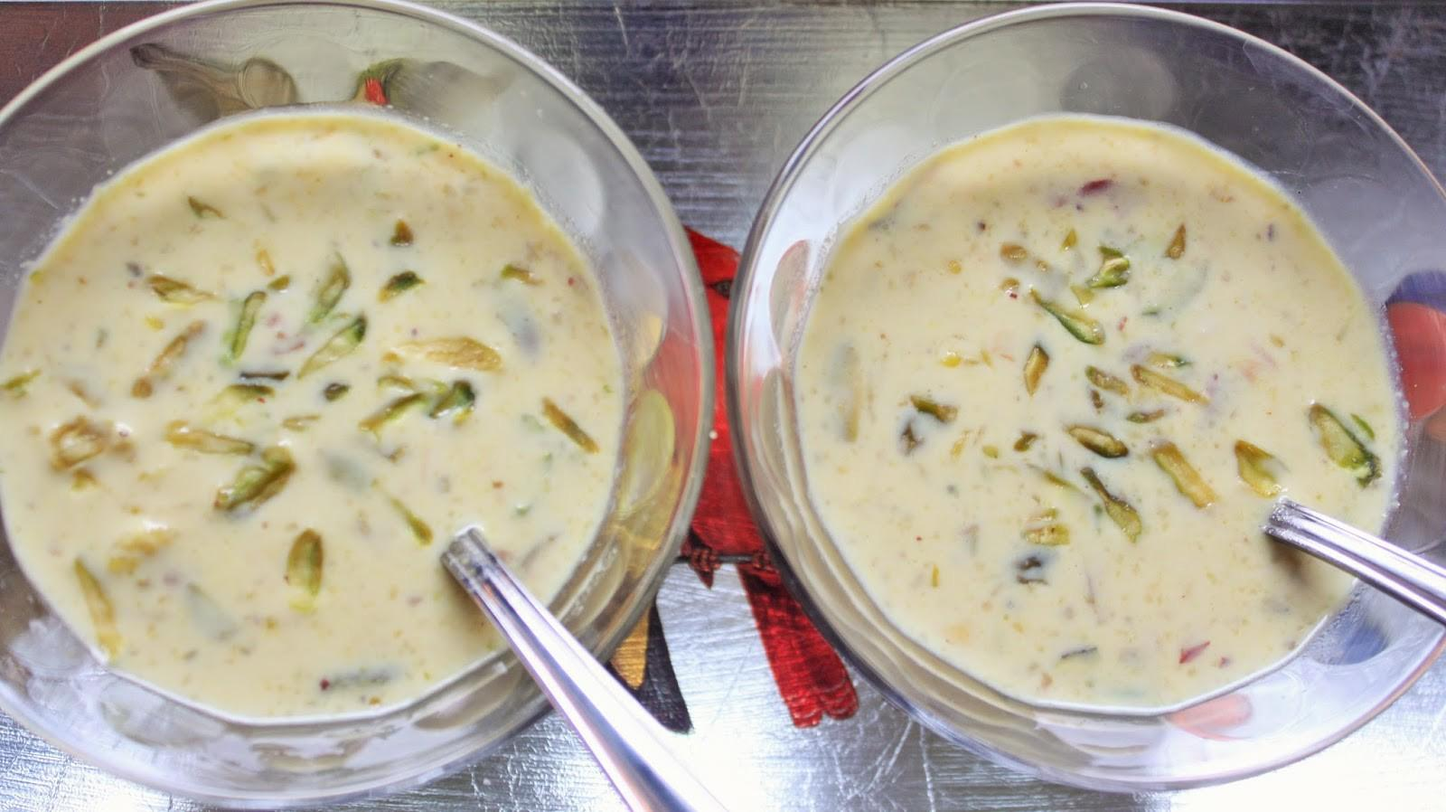Kheer: (5, 110, 628, 728), (789, 107, 1404, 714)
